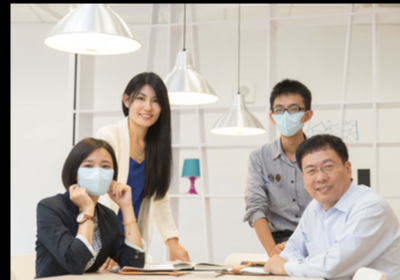with_mask: (75, 156, 114, 198), (270, 100, 308, 138)
without_mask: (300, 154, 346, 204), (128, 91, 159, 127)
